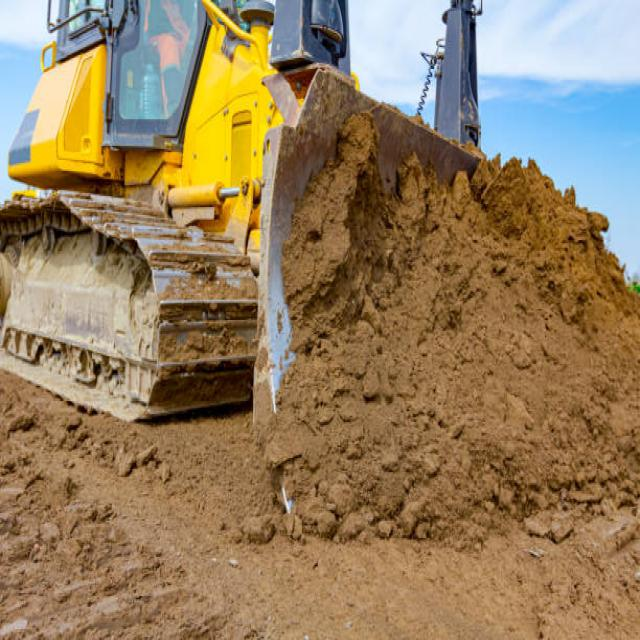Bulldozer: (1, 0, 488, 521)
